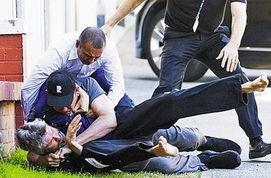Fall-Detected: (24, 63, 249, 170)
